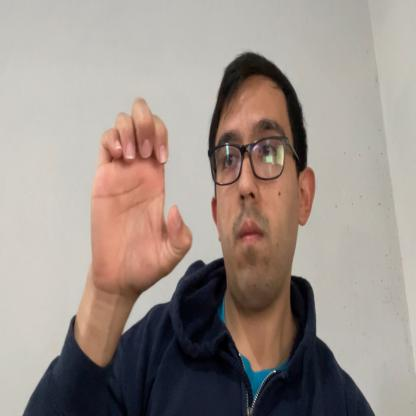E: (90, 96, 193, 287)
